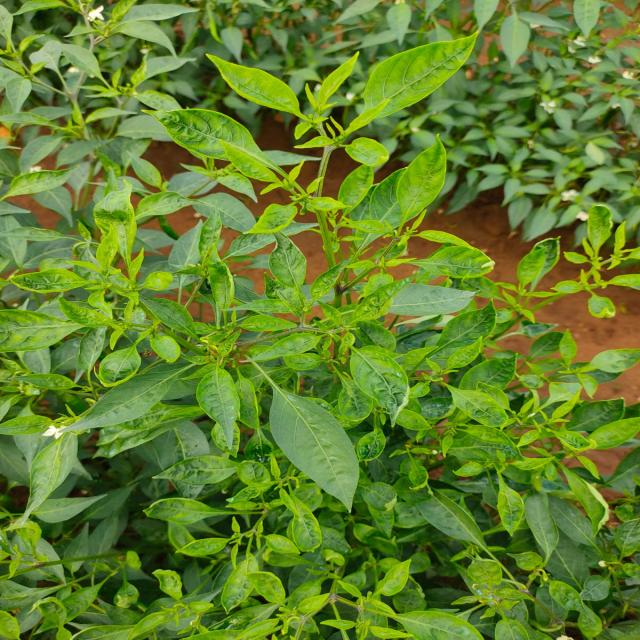Moko: (199, 163, 468, 348), (138, 34, 456, 188), (0, 183, 273, 353), (391, 335, 640, 513), (170, 413, 352, 588), (306, 525, 569, 640), (459, 155, 640, 302), (0, 499, 148, 639), (3, 352, 205, 436)
